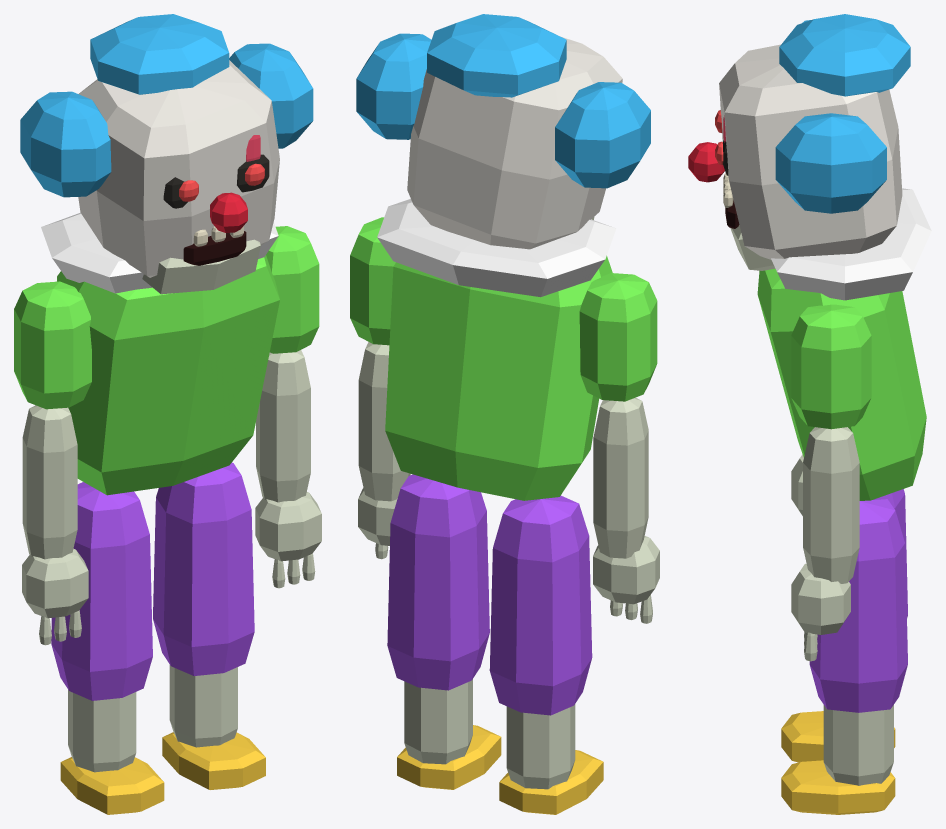
The model's file is mon-clown-2.glb.
3 renders of one model, left to right at view 1: azimuth 30°, elevation 25°; view 2: azimuth 150°, elevation 25°; view 3: azimuth 270°, elevation 25°, orthographic.
Visible parts, largest first — view 1: head, torso, leg-left, leg-right, arm-right, arm-left; view 2: torso, head, leg-right, leg-left, arm-right, arm-left; view 3: head, leg-left, torso, arm-left, leg-right, arm-right.
Boxes of the visible parts, box(x1,y1,x2,y2) form: head: box(20, 14, 313, 294); torso: box(41, 212, 279, 495); leg-left: box(153, 462, 265, 789); leg-right: box(51, 482, 164, 814); arm-right: box(14, 281, 91, 645); arm-left: box(255, 226, 321, 588); torso: box(377, 199, 616, 500); head: box(356, 14, 650, 249); leg-right: box(489, 495, 603, 814); leg-left: box(387, 474, 501, 789); arm-right: box(579, 273, 659, 623); arm-left: box(350, 217, 410, 559); head: box(688, 14, 910, 270); leg-left: box(781, 498, 907, 814); torso: box(757, 188, 931, 500); arm-left: box(791, 304, 871, 661); leg-right: box(781, 489, 907, 762); arm-right: box(791, 454, 803, 515).
Bounding box in the file's own units: 0.9745 × 2.41 × 0.7097.
